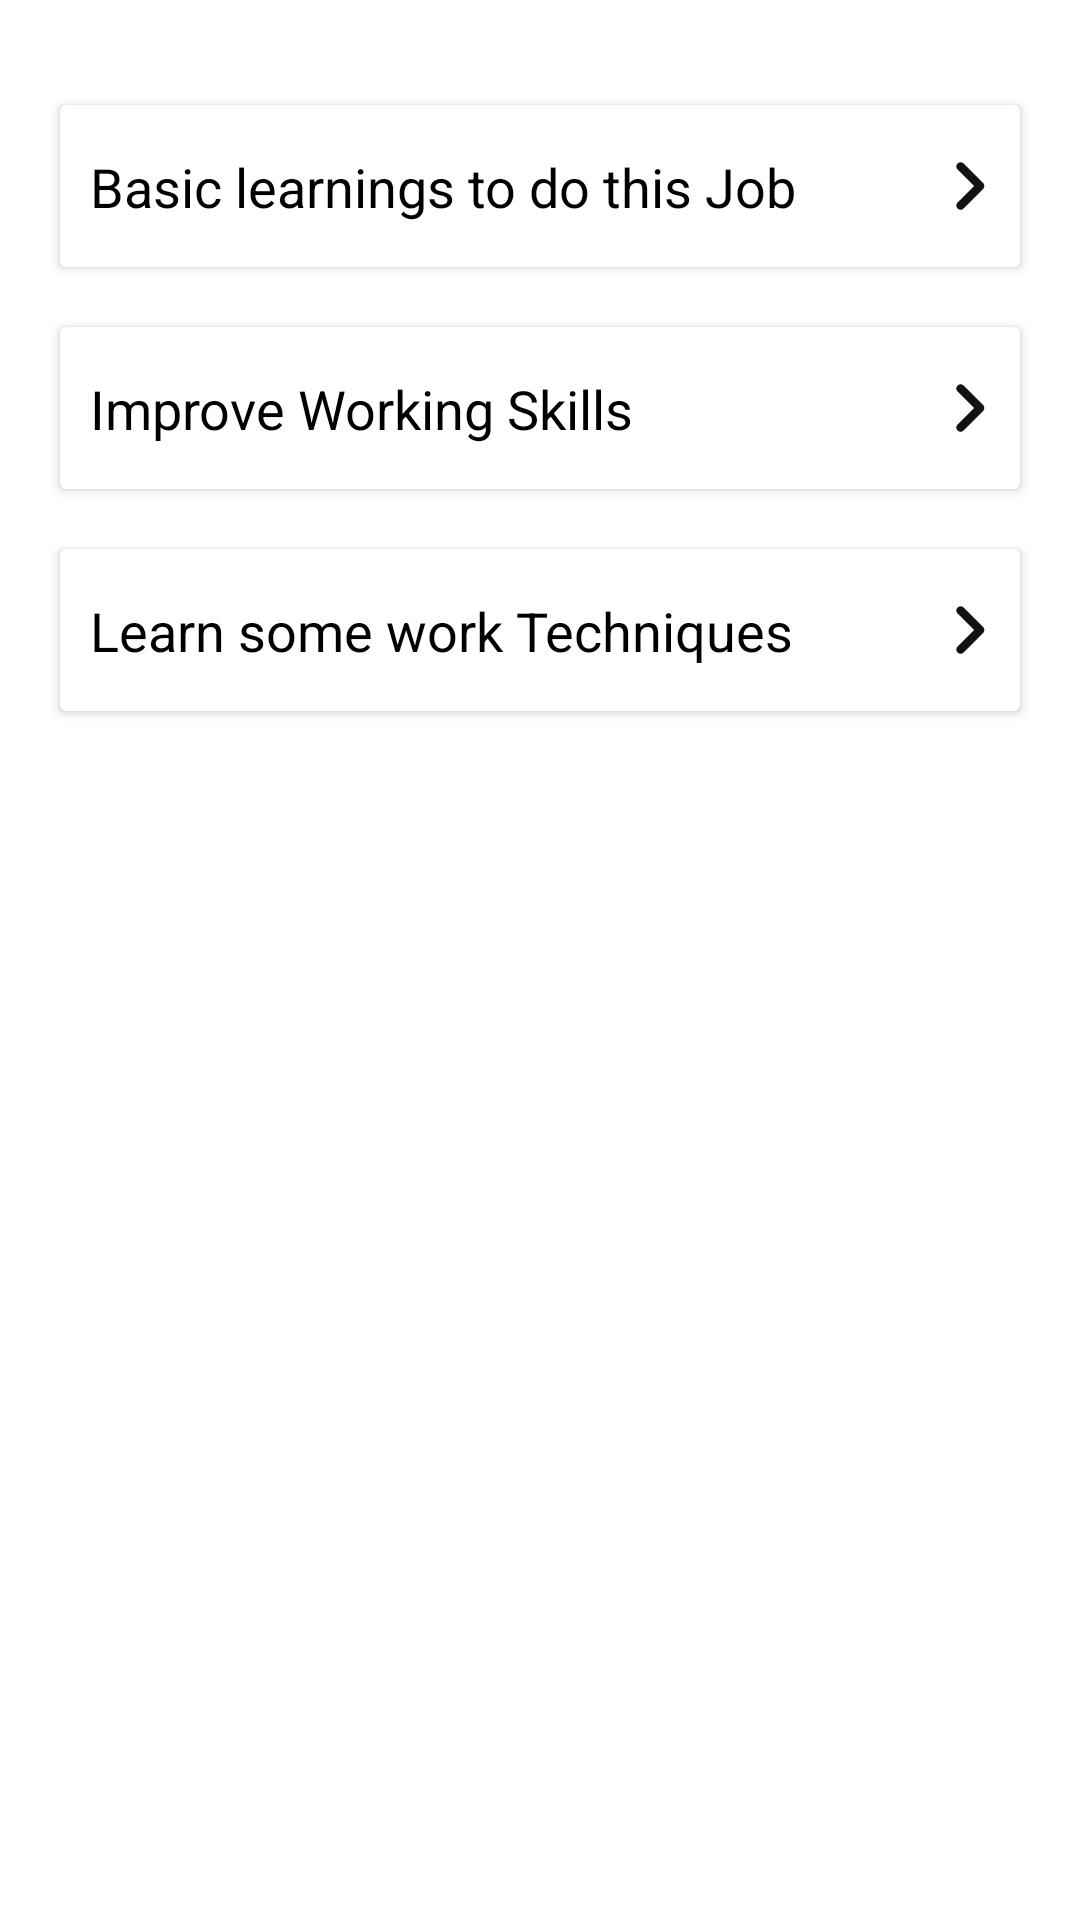

Screen size 1080 x 1920. Icon name, then its box in pixels as {"x1": x1, "y1": y1, "x2": x2, "y2": y2}:
next: {"x1": 956, "y1": 162, "x2": 985, "y2": 210}, {"x1": 956, "y1": 384, "x2": 985, "y2": 432}, {"x1": 956, "y1": 606, "x2": 985, "y2": 654}
